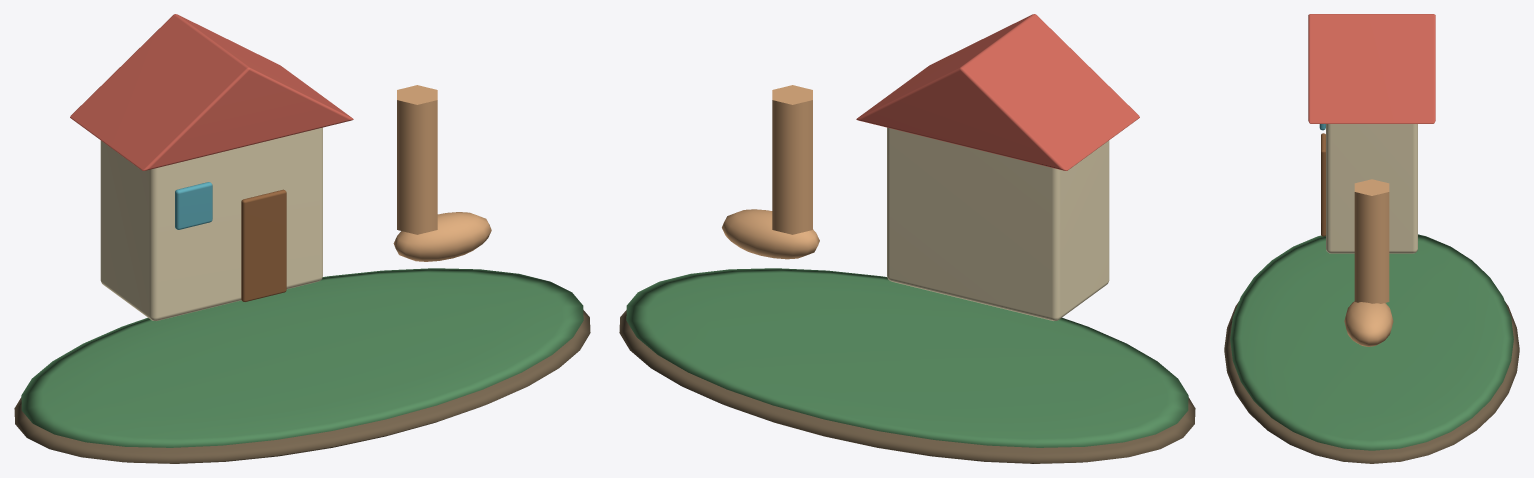
Rendered from stop-steps.glb.
3 renders of one model, left to right at view 1: azimuth 30°, elevation 25°; view 2: azimuth 150°, elevation 25°; view 3: azimuth 270°, elevation 25°, orthographic. The views are drawn at different scales.
Parts seen in each view (by area): view 1: stop-steps_surface_01, stop-steps_surface_02, stop-steps_surface_03, stop-steps_surface_00, stop-steps_surface_06, stop-steps_surface_04, stop-steps_surface_05; view 2: stop-steps_surface_01, stop-steps_surface_02, stop-steps_surface_03, stop-steps_surface_00, stop-steps_surface_06; view 3: stop-steps_surface_01, stop-steps_surface_03, stop-steps_surface_02, stop-steps_surface_06, stop-steps_surface_00, stop-steps_surface_04.
Part boxes in pixels (<box>): stop-steps_surface_01: <box>21,268,583,447</box>; stop-steps_surface_02: <box>100,127,322,320</box>; stop-steps_surface_03: <box>70,14,353,170</box>; stop-steps_surface_00: <box>14,310,590,463</box>; stop-steps_surface_06: <box>393,85,491,261</box>; stop-steps_surface_04: <box>241,189,286,301</box>; stop-steps_surface_05: <box>175,182,212,229</box>; stop-steps_surface_01: <box>626,268,1188,447</box>; stop-steps_surface_02: <box>887,127,1109,320</box>; stop-steps_surface_03: <box>856,14,1139,170</box>; stop-steps_surface_00: <box>619,310,1195,463</box>; stop-steps_surface_06: <box>722,85,819,259</box>; stop-steps_surface_01: <box>1230,234,1513,450</box>; stop-steps_surface_03: <box>1308,14,1435,123</box>; stop-steps_surface_02: <box>1326,124,1417,253</box>; stop-steps_surface_06: <box>1344,179,1393,346</box>; stop-steps_surface_00: <box>1224,301,1519,463</box>; stop-steps_surface_04: <box>1321,133,1325,236</box>.
Size of the model in its own units: 4.56 by 2.91 by 2.5.
